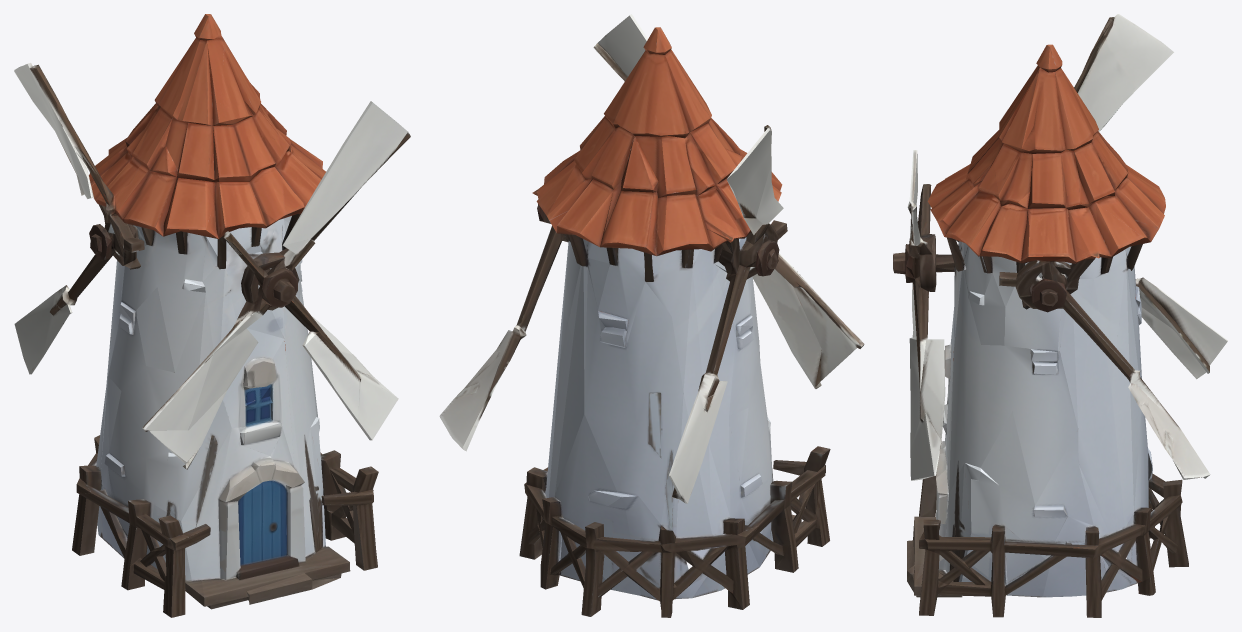
The model's file is windmill.glb.
The picture shows the model from 3 angles, left to right: view 1: azimuth 30°, elevation 25°; view 2: azimuth 150°, elevation 25°; view 3: azimuth 270°, elevation 25°; orthographic projection. The views are drawn at different scales.
Parts seen in each view (by area): view 1: windmill; view 2: windmill; view 3: windmill.
Boxes of the visible parts, <box> form: windmill: <box>14,14,410,617</box>; windmill: <box>439,14,864,617</box>; windmill: <box>893,14,1227,617</box>.
Size of the model in its own units: 6.36 by 11 by 6.41.
Materials: 1 (1 with a texture image).
